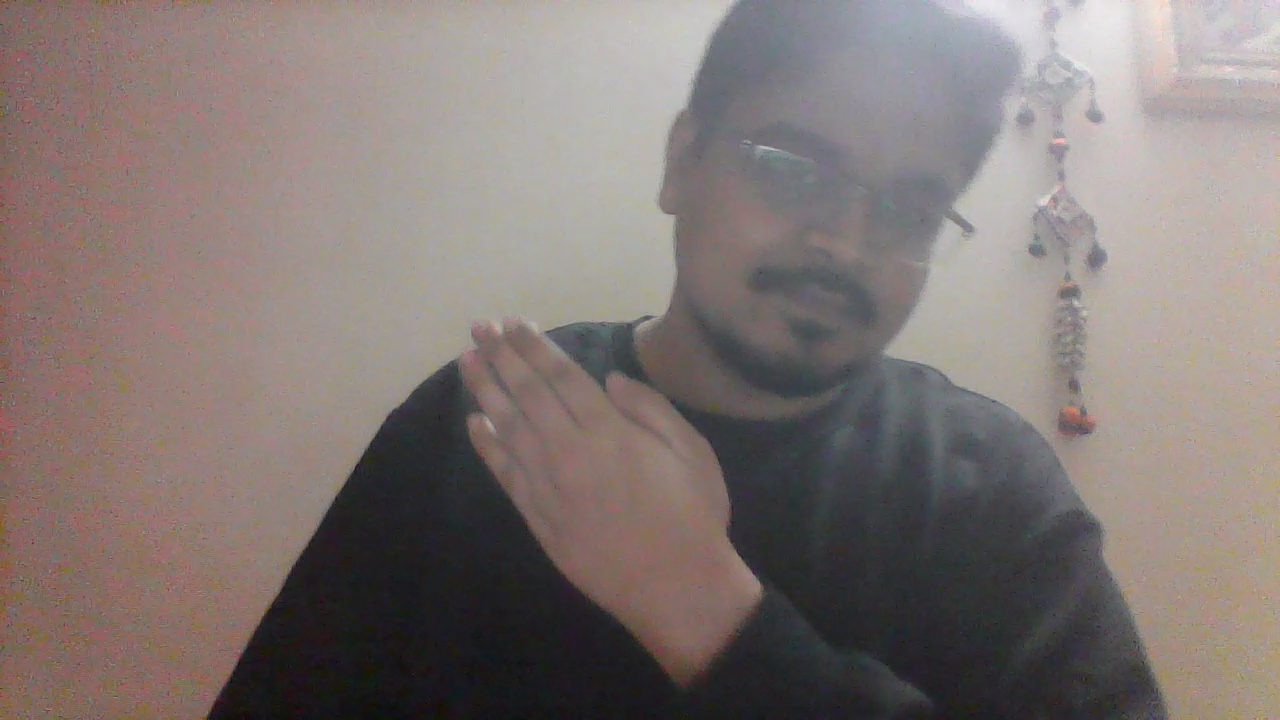Please: (445, 313, 745, 638)
